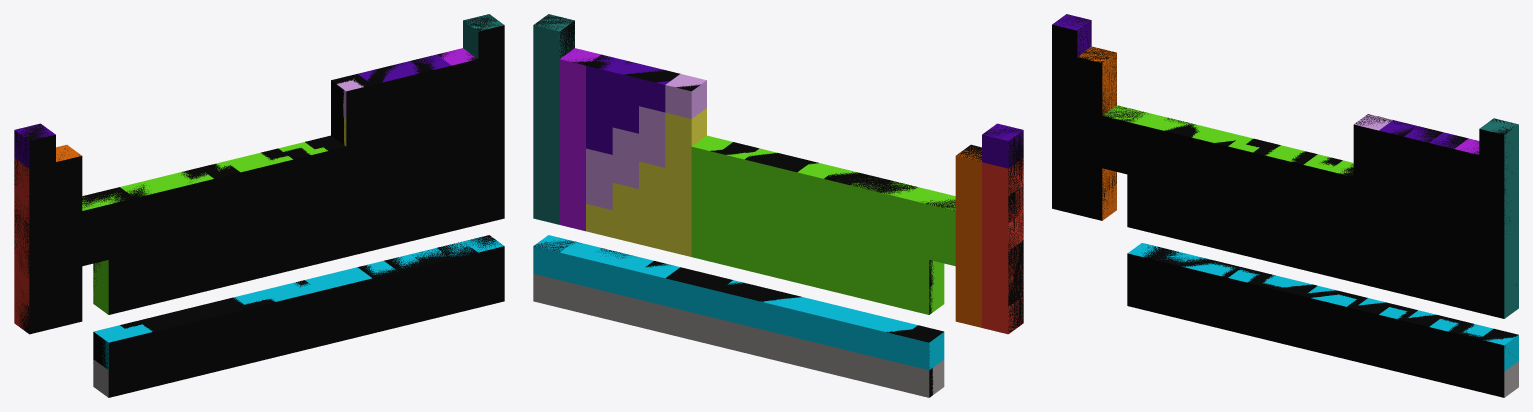
The model's file is tabla periodica.glb.
3 renders of one model, left to right at view 1: azimuth 30°, elevation 25°; view 2: azimuth 150°, elevation 25°; view 3: azimuth 330°, elevation 25°, orthographic. The views are drawn at different scales.
Parts seen in each view (by area): view 1: H.001, B.001, La.001, Pr.001, Ti.001, Nd.001, Yb.001, Pm.001, Al.001, Zn.001, Fe.001, K.001 (+116 smaller); view 2: B, H, He, Al, La, Rf, K, Pm, Er, Pr, Nd, Yb (+113 smaller); view 3: Be.001, H.001, Sc.001, Ce.001, Lu.001, Dy.001, Er.001, Pr.001, Eu.001, N.001, B.001, O.001 (+110 smaller).
Boxes of the visible parts, bbox=[...] form: H.001: bbox=[14, 123, 55, 168]; B.001: bbox=[331, 74, 372, 118]; La.001: bbox=[93, 332, 134, 370]; Pr.001: bbox=[146, 312, 187, 357]; Ti.001: bbox=[93, 187, 134, 231]; Nd.001: bbox=[173, 306, 214, 350]; Yb.001: bbox=[437, 242, 478, 286]; Pm.001: bbox=[199, 299, 240, 344]; Al.001: bbox=[331, 108, 372, 146]; Zn.001: bbox=[305, 135, 346, 180]; Fe.001: bbox=[199, 164, 240, 206]; K.001: bbox=[14, 213, 55, 251]; B: bbox=[665, 74, 706, 118]; H: bbox=[982, 123, 1023, 168]; He: bbox=[533, 14, 574, 58]; Al: bbox=[665, 108, 706, 146]; La: bbox=[903, 332, 944, 370]; Rf: bbox=[903, 277, 944, 314]; K: bbox=[982, 213, 1023, 251]; Pm: bbox=[797, 299, 838, 344]; Er: bbox=[612, 254, 653, 299]; Pr: bbox=[850, 312, 891, 357]; Nd: bbox=[823, 306, 864, 350]; Yb: bbox=[559, 241, 600, 286]; Be.001: bbox=[1077, 47, 1116, 89]; H.001: bbox=[1052, 14, 1091, 56]; Sc.001: bbox=[1102, 105, 1140, 147]; Ce.001: bbox=[1152, 249, 1187, 291]; Lu.001: bbox=[1479, 328, 1518, 371]; Dy.001: bbox=[1353, 302, 1392, 340]; Er.001: bbox=[1404, 314, 1442, 353]; Pr.001: bbox=[1177, 257, 1216, 297]; Eu.001: bbox=[1278, 284, 1317, 322]; N.001: bbox=[1404, 126, 1442, 168]; B.001: bbox=[1353, 114, 1391, 156]; O.001: bbox=[1429, 134, 1468, 175].
Size of the model in its own units: 1.8 by 1 by 0.1028.
